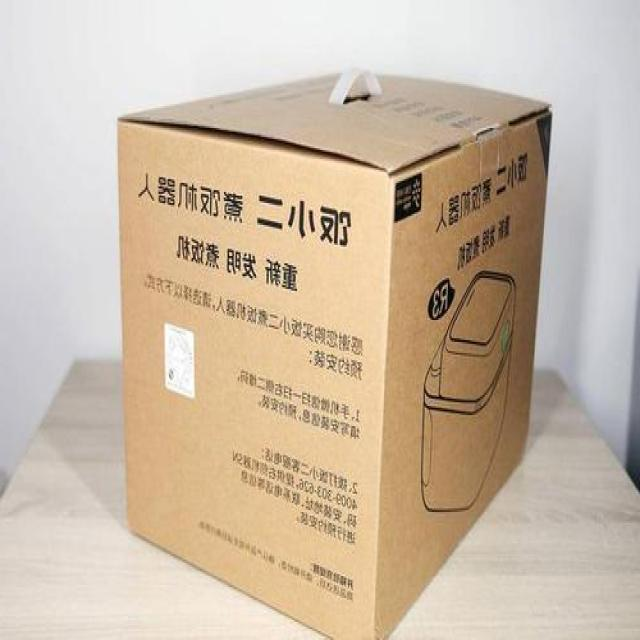cardboard: (116, 59, 553, 640)
